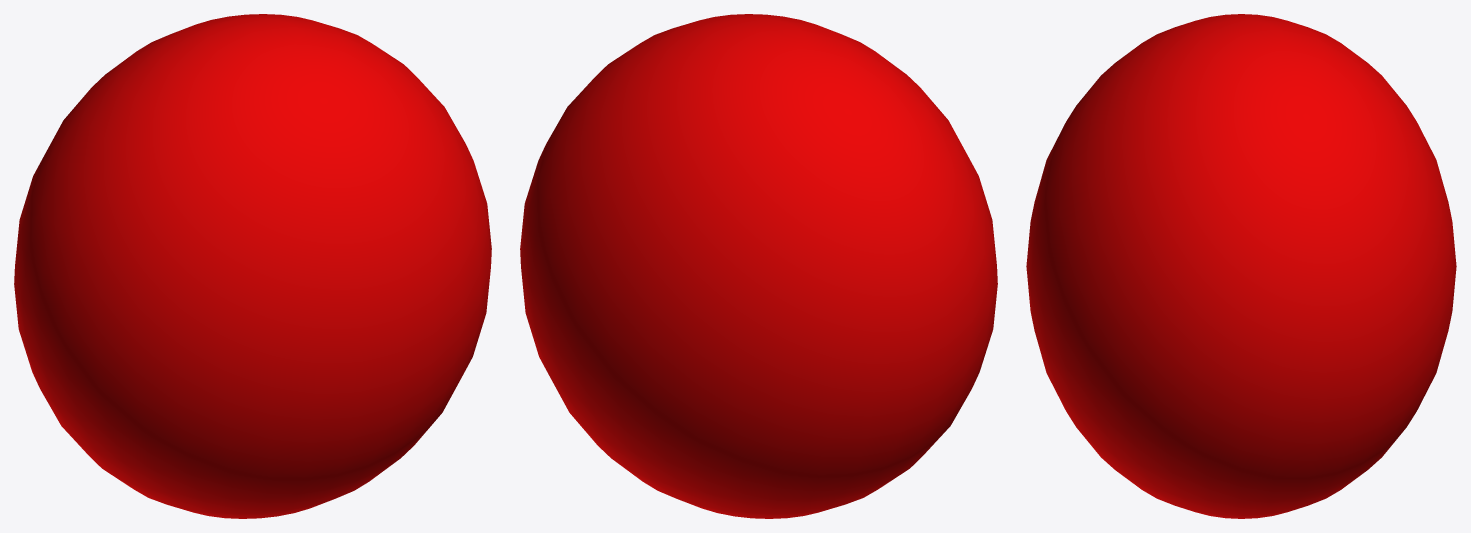
The model's file is sonce.fbx.
3 renders of one model, left to right at view 1: azimuth 30°, elevation 25°; view 2: azimuth 150°, elevation 25°; view 3: azimuth 270°, elevation 25°, orthographic.
Parts seen in each view (by area): view 1: Sphere.022; view 2: Sphere.022; view 3: Sphere.022.
Part boxes in pixels (x1=…): Sphere.022: x1=14, y1=14, x2=491, y2=518; Sphere.022: x1=520, y1=14, x2=997, y2=518; Sphere.022: x1=1026, y1=14, x2=1456, y2=518.
Bounding box in the file's own units: 916 × 959 × 810.
